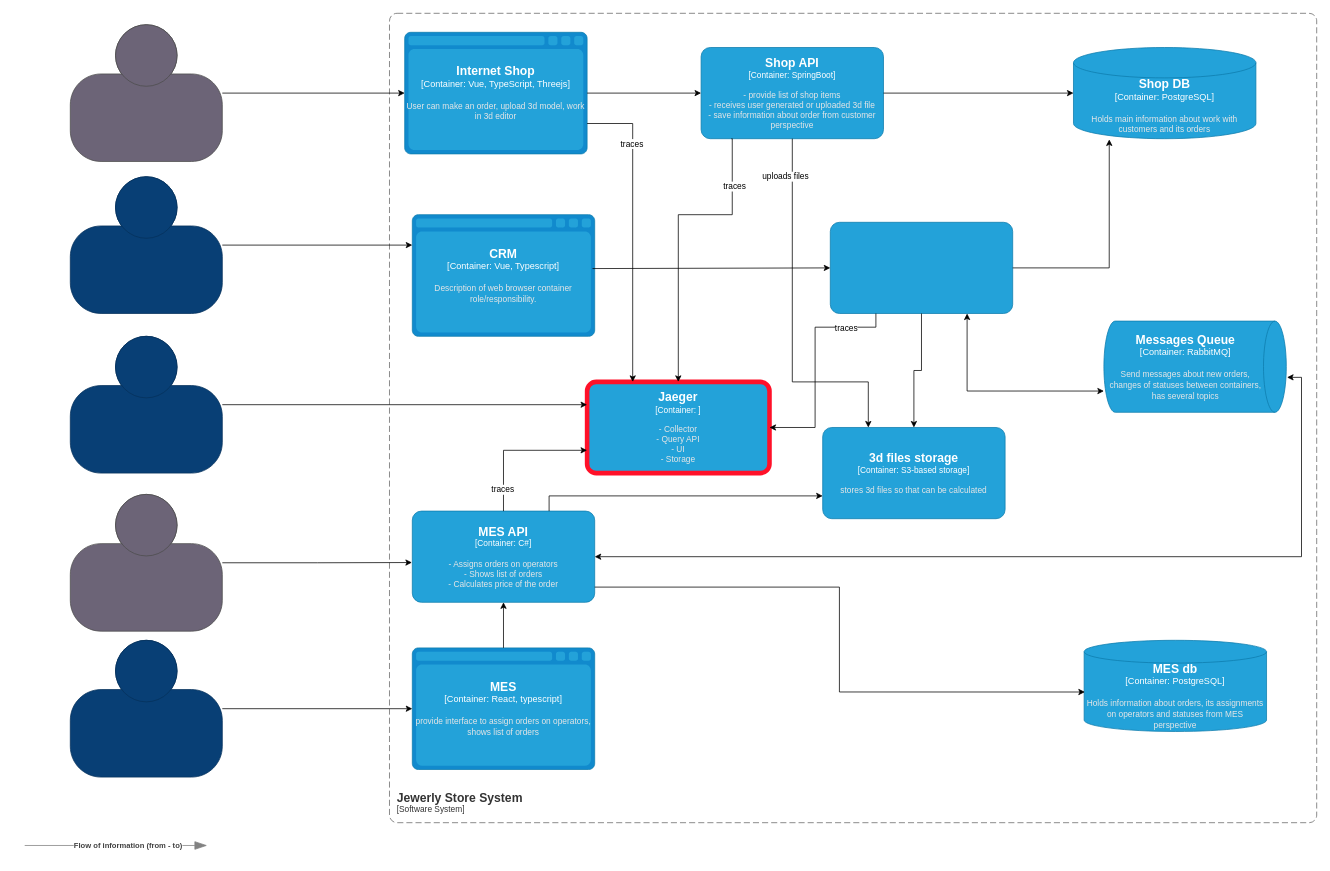
Image size: 1330x871. Some labels were removed from this diagram. The shapes that lost their labels are listed below. From the top down, each one's centre as x and y in pixels, then its label:
At point (146, 93): "Customer [Person] Description of external person.".
At point (146, 245): "Seller [Person] Operates with order, confirms manufacturing for the user".
At point (921, 268): "CRM API [Container: SpringBoot] Description of container role/responsibility.".
At point (146, 404): "Tracing user [Person] Developer, DevOps, QA, Analyst, etc.".
At point (146, 562): "API user [Person] Description of external person.".
At point (146, 708): "Operator [Person] Takes order in work, manufactures jewerly".
